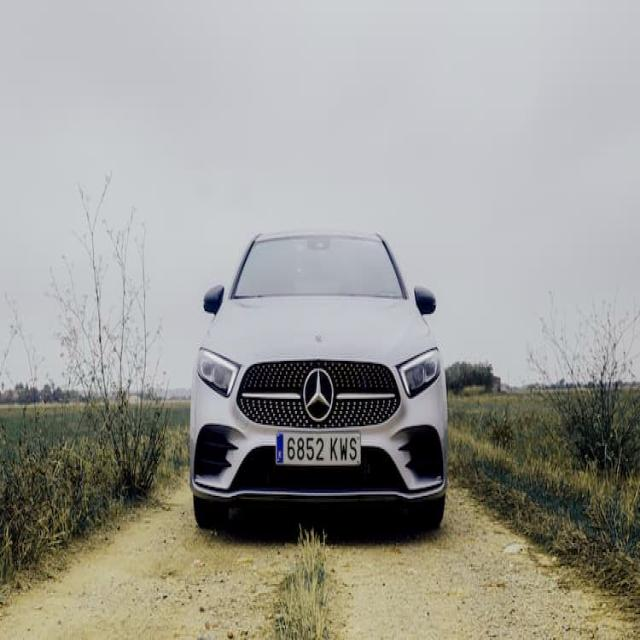football: (274, 430, 362, 465)
